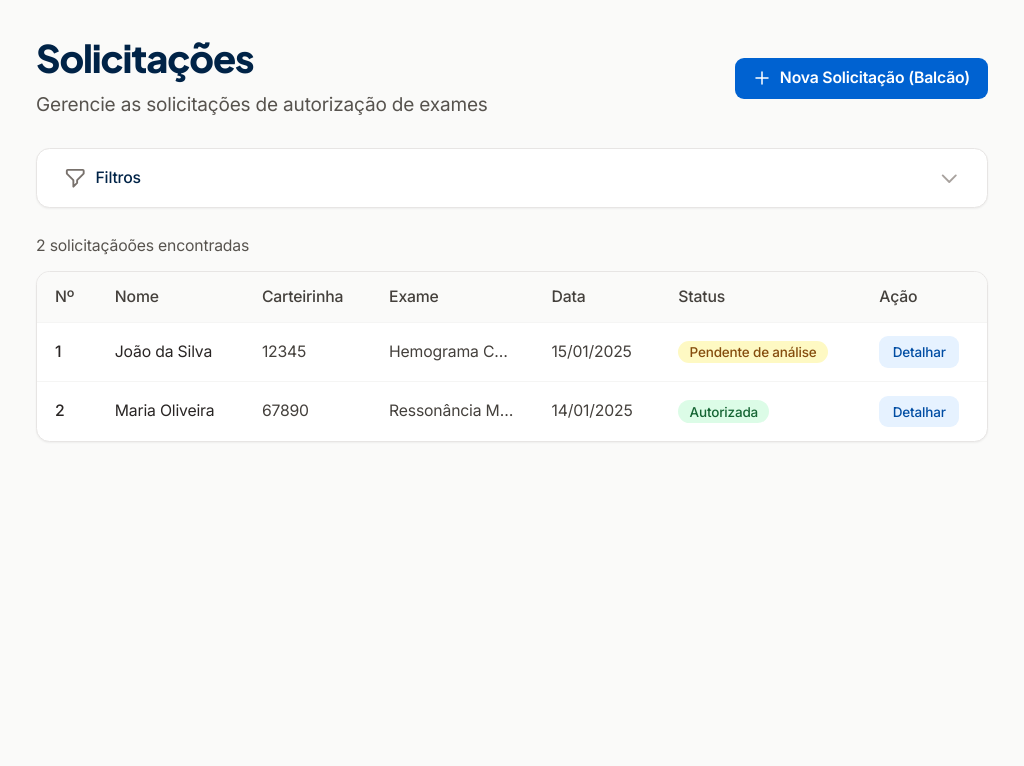
it: AdminSolicitacoes › clears filters and reloads data
This screenshot has width=1024, height=766.
Check: the text "João da Silva" is shown, box [97,322,244,382]
Expand filter panel
Click the button "Filtros" at [118, 177], box [37,149,987,208]
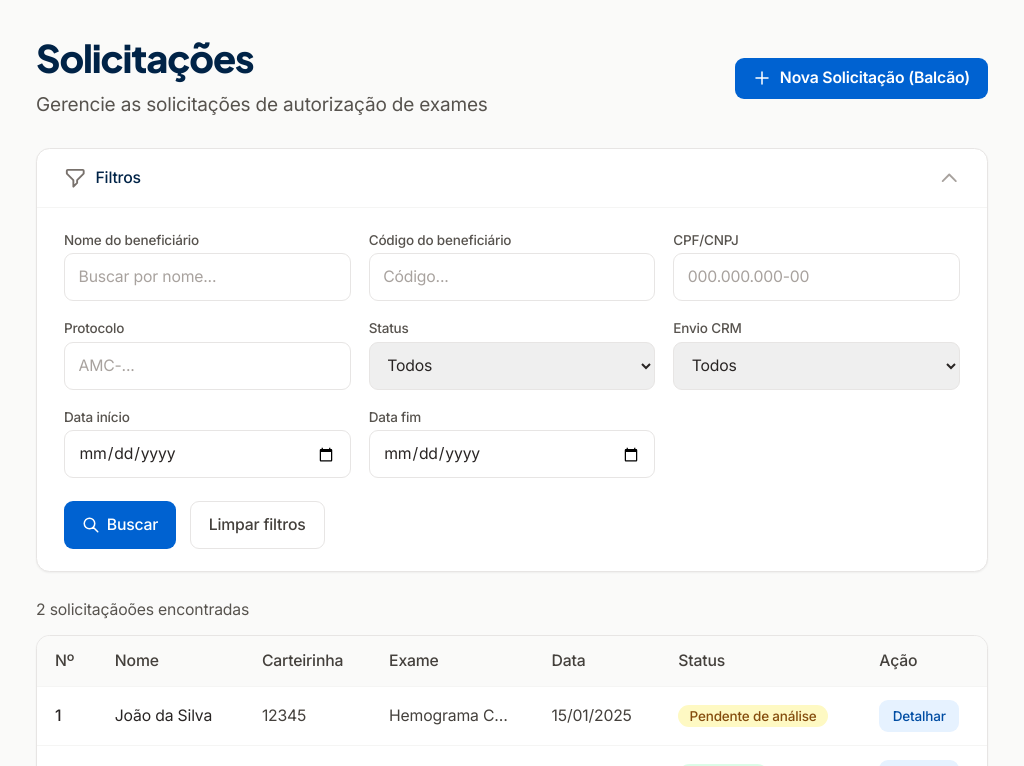
Fill in a filter
Type "test" into the field labelled "Nome do beneficiário" at [207, 278], box [64,254,351,302]
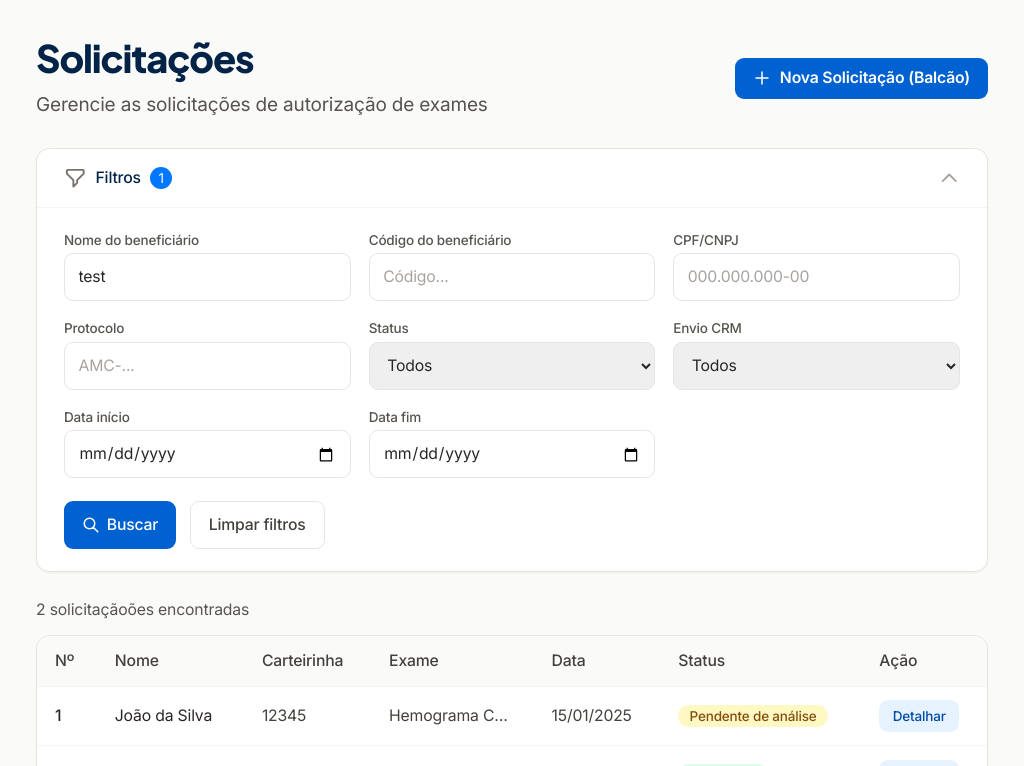
Click the button "Limpar filtros" at [257, 525], box [190,501,325,549]
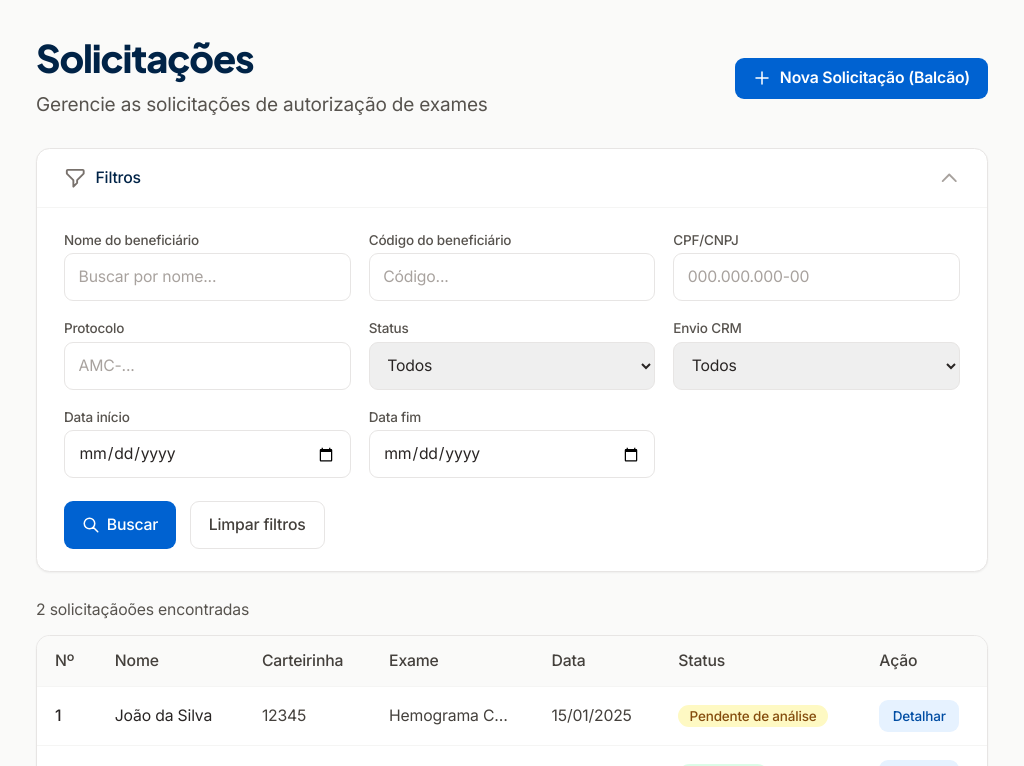
Check: the field labelled "Nome do beneficiário" is empty, box [64,254,351,302]
